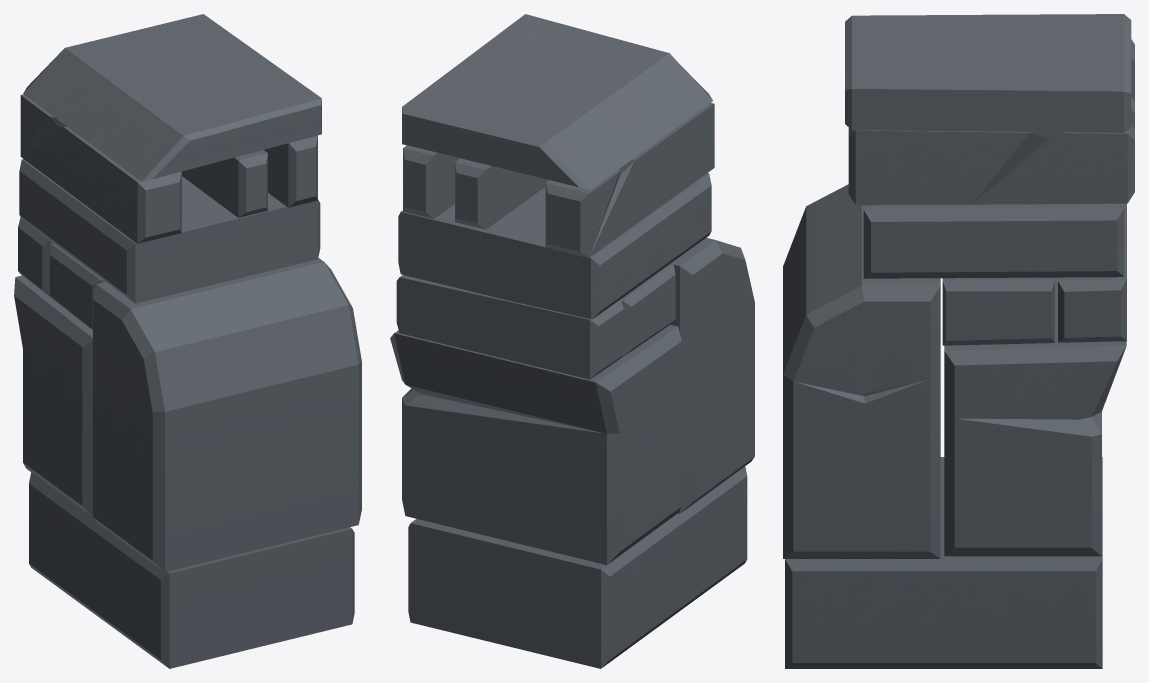
File: muro3.fbx
3 views of the same model, side by side, from view 1: azimuth 30°, elevation 25°; view 2: azimuth 150°, elevation 25°; view 3: azimuth 270°, elevation 25° (orthographic). The views are drawn at different scales.
Parts seen in each view (by area): view 1: muro5; view 2: muro5; view 3: muro5.
Boxes of the visible parts, bbox=[...] form: muro5: bbox=[14, 14, 361, 668]; muro5: bbox=[390, 14, 754, 668]; muro5: bbox=[783, 14, 1134, 668].
Bounding box in the file's own units: 2412 × 5561 × 3059.
